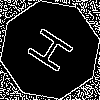H: (25, 25, 83, 80)
